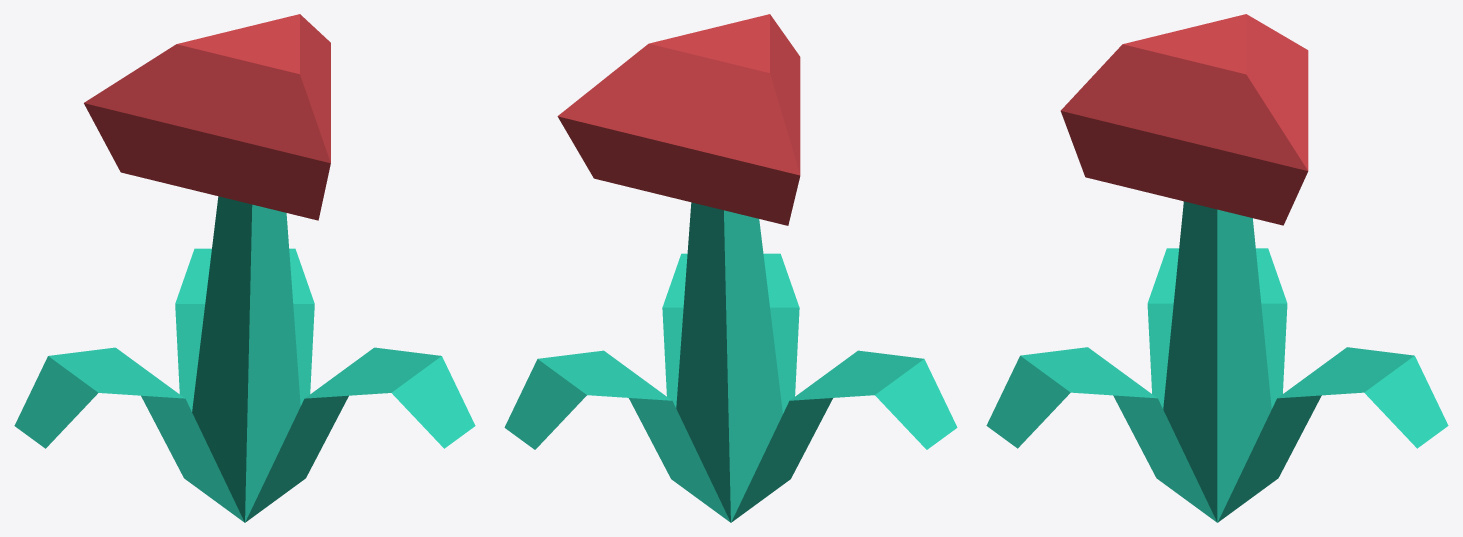
File: flower-red-b.glb
3 renders of one model, left to right at view 1: azimuth 30°, elevation 25°; view 2: azimuth 150°, elevation 25°; view 3: azimuth 270°, elevation 25°, orthographic.
Parts seen in each view (by area): view 1: flower_redB; view 2: flower_redB; view 3: flower_redB.
Part boxes in pixels (bbox=[...]): flower_redB: bbox=[14, 14, 475, 522]; flower_redB: bbox=[504, 14, 957, 522]; flower_redB: bbox=[986, 14, 1448, 522].
Size of the model in its own units: 0.2073 by 0.2585 by 0.2392.
